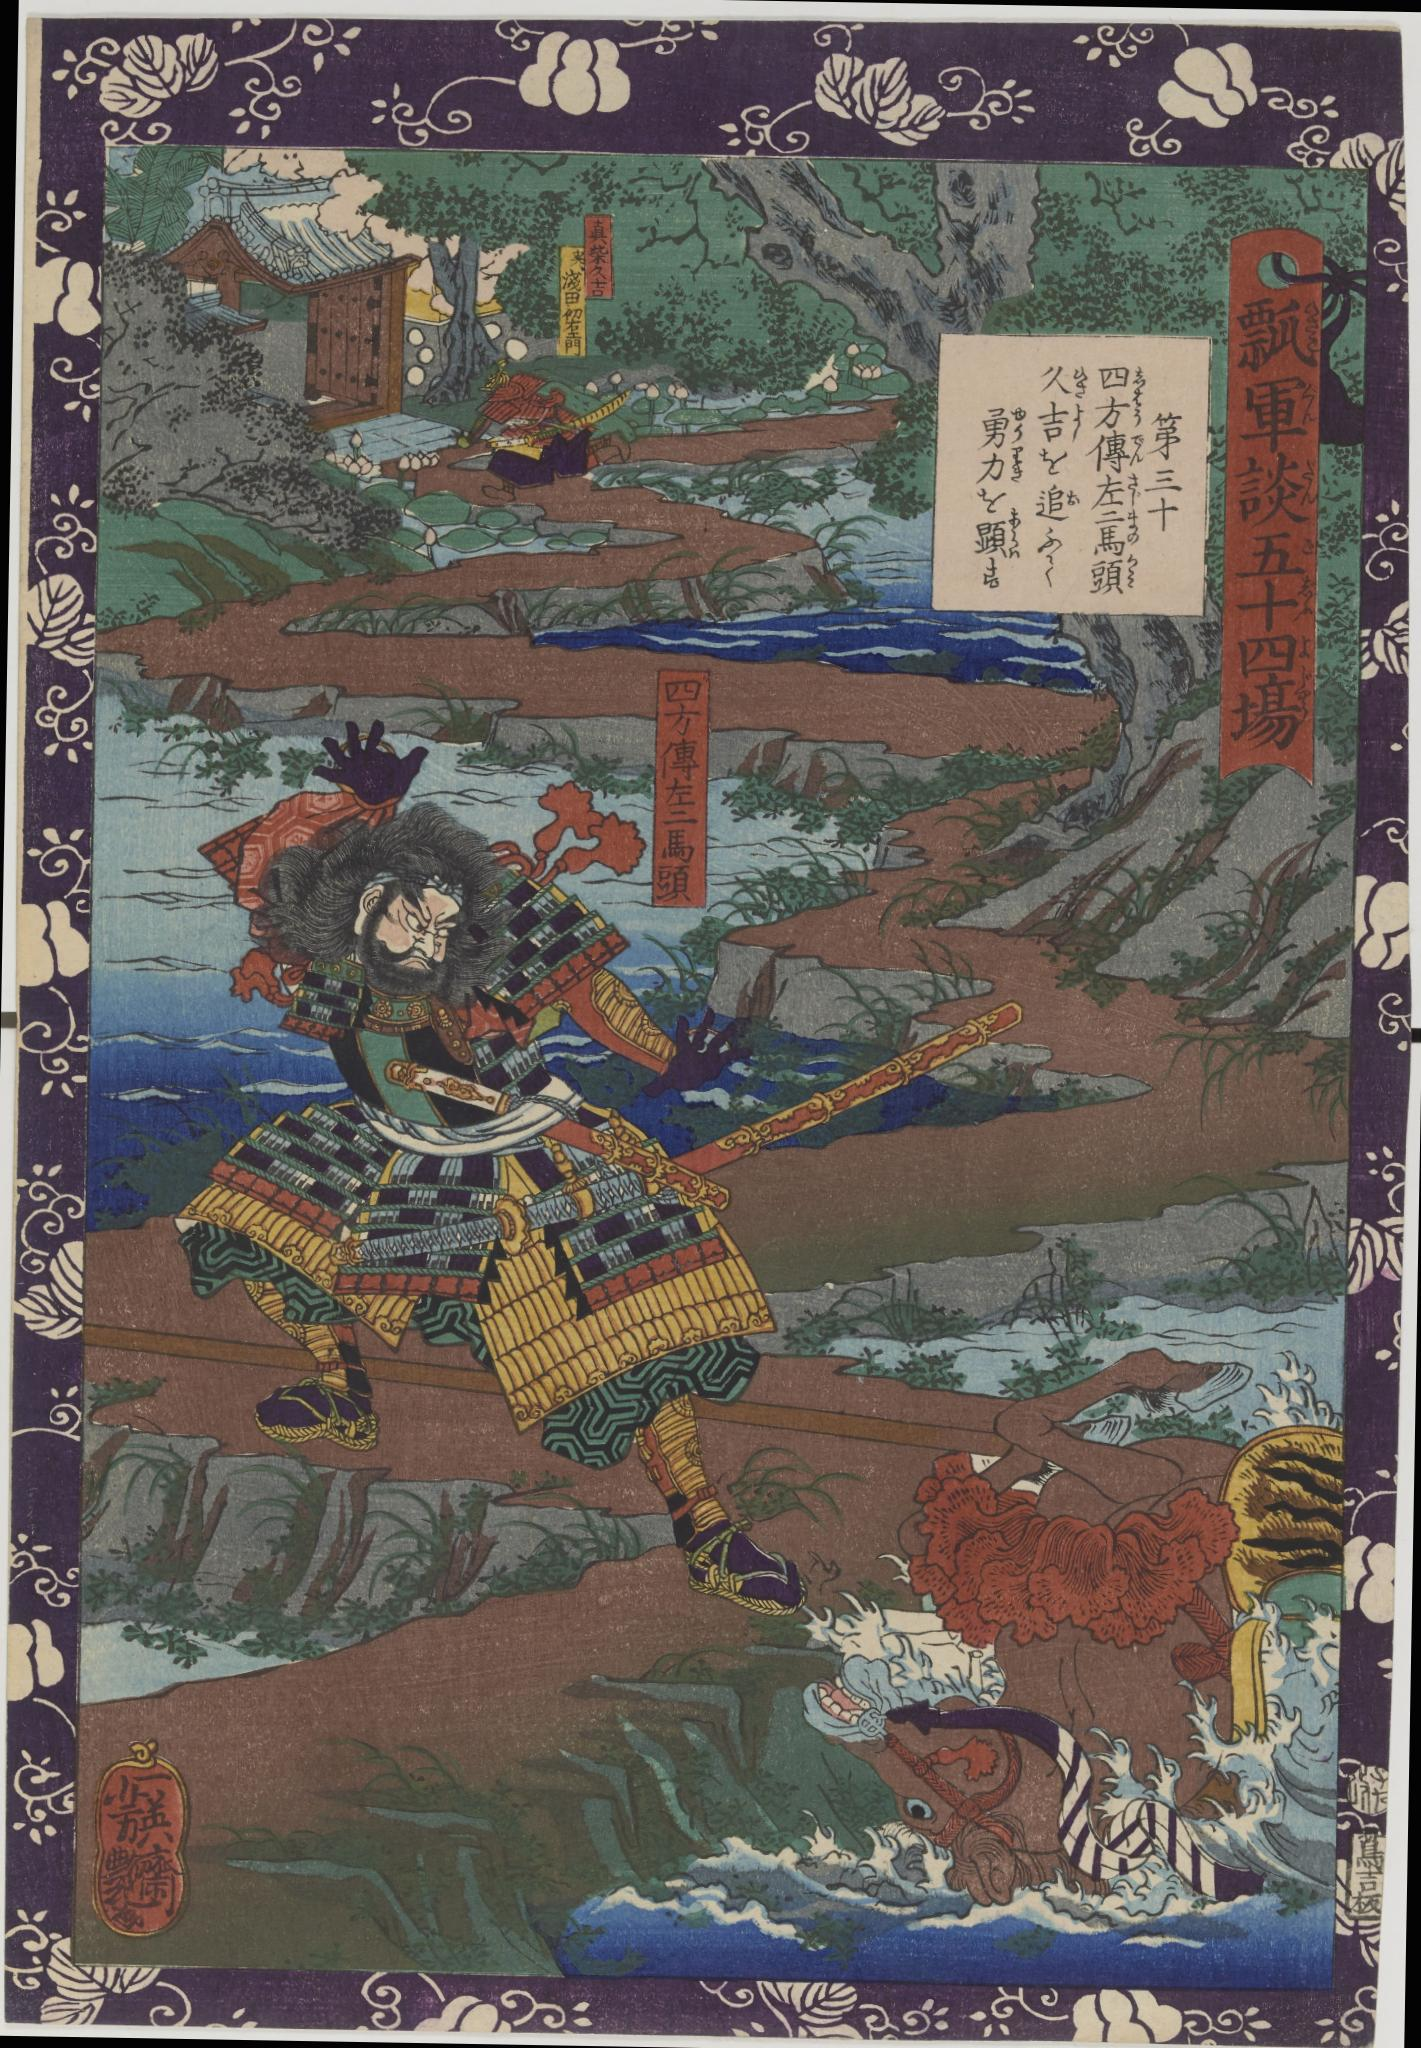MainZone-Character: (1230, 668, 1315, 756), (1230, 291, 1320, 375), (1230, 375, 1321, 453), (1231, 448, 1323, 526), (1230, 579, 1320, 632), (1230, 531, 1320, 580), (1231, 633, 1315, 675), (970, 507, 1024, 560), (1089, 556, 1142, 598), (1032, 400, 1085, 442), (1088, 433, 1144, 472), (979, 402, 1026, 447), (1035, 361, 1088, 400), (1032, 482, 1082, 523), (982, 445, 1027, 486), (1091, 397, 1144, 431), (1086, 524, 1142, 556), (1096, 363, 1149, 395), (1085, 475, 1139, 506), (1088, 506, 1141, 524)
MainZone-Ruby: (1290, 666, 1315, 722), (1293, 576, 1318, 619), (1005, 507, 1023, 563), (1301, 300, 1318, 355), (1298, 381, 1318, 425), (1300, 461, 1318, 507), (1009, 403, 1027, 447), (1007, 447, 1027, 484), (1121, 557, 1139, 590), (1130, 367, 1150, 397), (1125, 434, 1146, 464), (1125, 473, 1142, 506), (1068, 403, 1083, 437), (1071, 364, 1086, 398), (1298, 532, 1315, 557), (1128, 398, 1142, 426), (1296, 635, 1312, 660), (1127, 526, 1141, 551), (1065, 489, 1080, 509), (1125, 507, 1139, 523)
